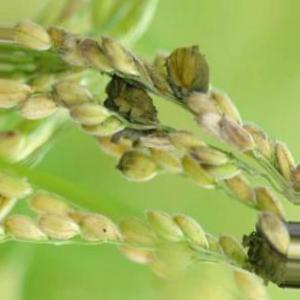Leaf_Scald: (244, 231, 300, 289), (106, 73, 152, 130), (166, 49, 205, 96)
